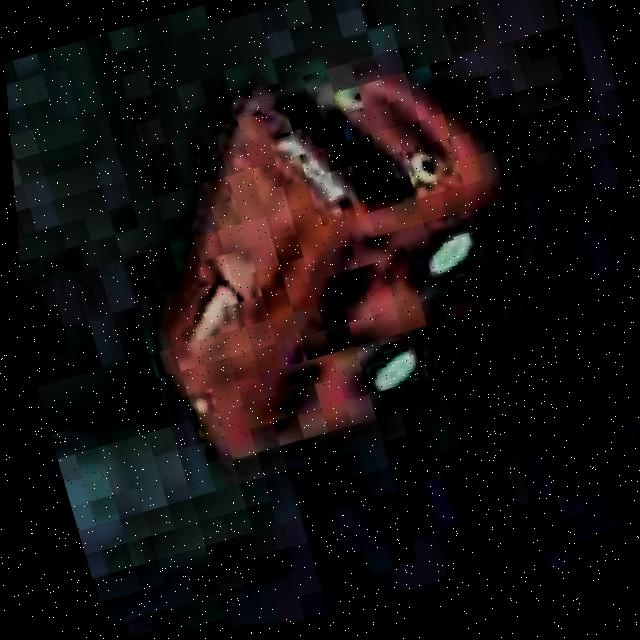bus: (74, 14, 583, 499)
